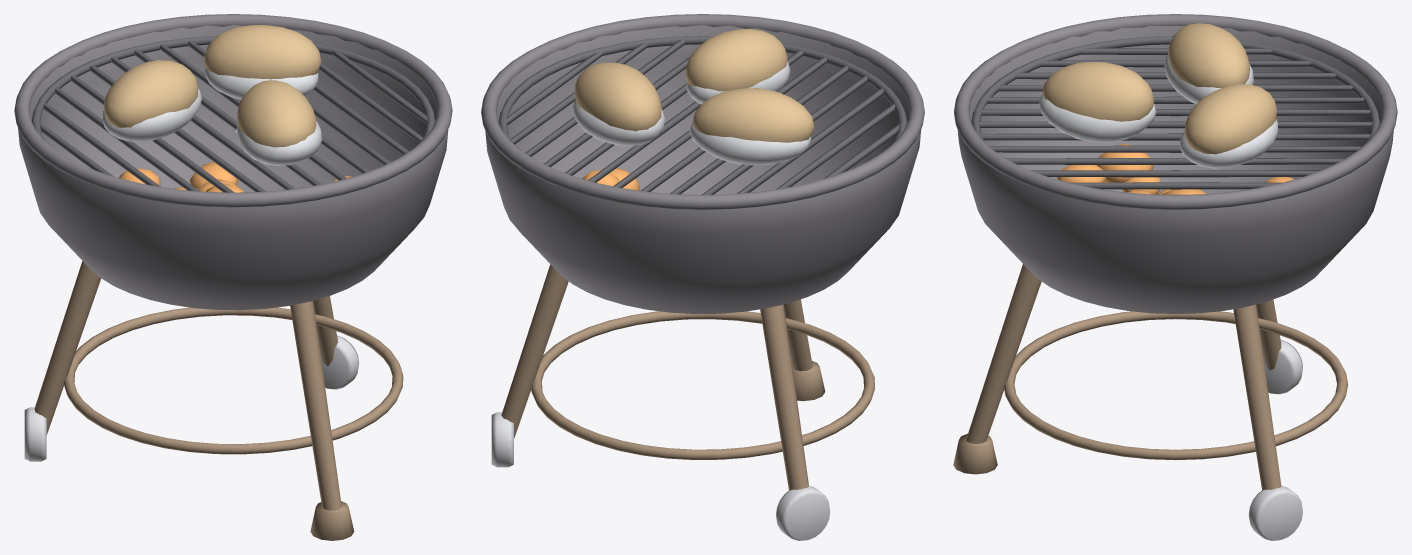
Rendered from HotPotatoGrill.glb.
3 views of the same model, side by side, from view 1: azimuth 30°, elevation 25°; view 2: azimuth 150°, elevation 25°; view 3: azimuth 270°, elevation 25° (orthographic).
Parts seen in each view (by area): view 1: Bowl, Legs, Grate, Spuds, Foil, Wheels, Coals; view 2: Bowl, Legs, Grate, Spuds, Foil, Wheels, Coals; view 3: Bowl, Grate, Legs, Spuds, Foil, Wheels, Coals.
Part boxes in pixels (x1,y1,x2,y2): Bowl: [14, 14, 452, 310]; Legs: [34, 261, 403, 540]; Grate: [31, 36, 435, 192]; Spuds: [104, 25, 321, 147]; Foil: [102, 67, 322, 165]; Wheels: [24, 335, 359, 461]; Coals: [119, 162, 351, 192]; Bowl: [481, 14, 924, 313]; Legs: [501, 264, 874, 490]; Grate: [498, 36, 907, 194]; Spuds: [574, 28, 813, 142]; Foil: [572, 61, 810, 165]; Wheels: [491, 412, 830, 540]; Coals: [582, 168, 640, 190]; Bowl: [954, 14, 1397, 313]; Grate: [971, 36, 1379, 194]; Legs: [953, 264, 1347, 490]; Spuds: [1042, 23, 1276, 154]; Foil: [1039, 55, 1277, 168]; Wheels: [1248, 340, 1302, 540]; Coals: [1057, 143, 1293, 194].
Bounding box in the file's own units: 7.98 × 7.98 × 7.99.
